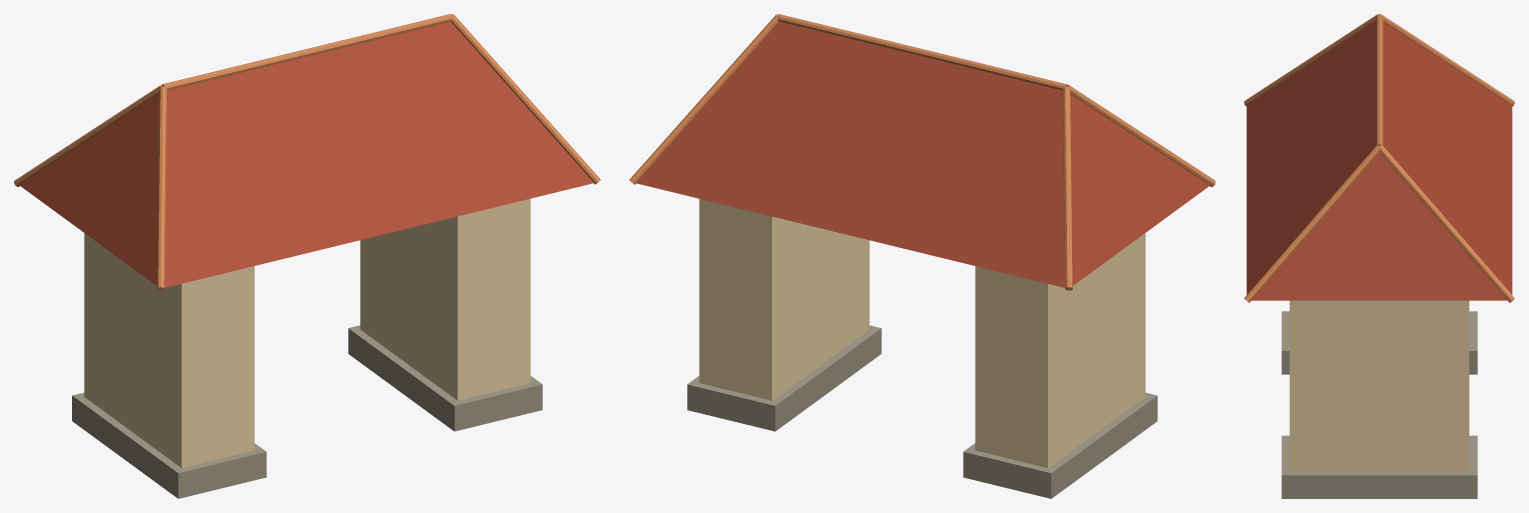
File: 001_padippura_gateway.glb
3 views of the same model, side by side, from view 1: azimuth 30°, elevation 25°; view 2: azimuth 150°, elevation 25°; view 3: azimuth 270°, elevation 25° (orthographic). The views are drawn at different scales.
Visible parts, largest first — view 1: Padippura gateway; view 2: Padippura gateway; view 3: Padippura gateway.
Part boxes in pixels (bbox=[...]): Padippura gateway: bbox=[14, 14, 600, 498]; Padippura gateway: bbox=[629, 14, 1215, 498]; Padippura gateway: bbox=[1244, 14, 1514, 498].
Bounding box in the file's own units: 5.78 × 4.57 × 3.32.
